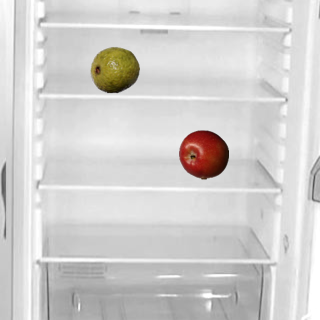Apple Braeburn: (178, 129, 228, 179)
Guava: (89, 44, 139, 94)
